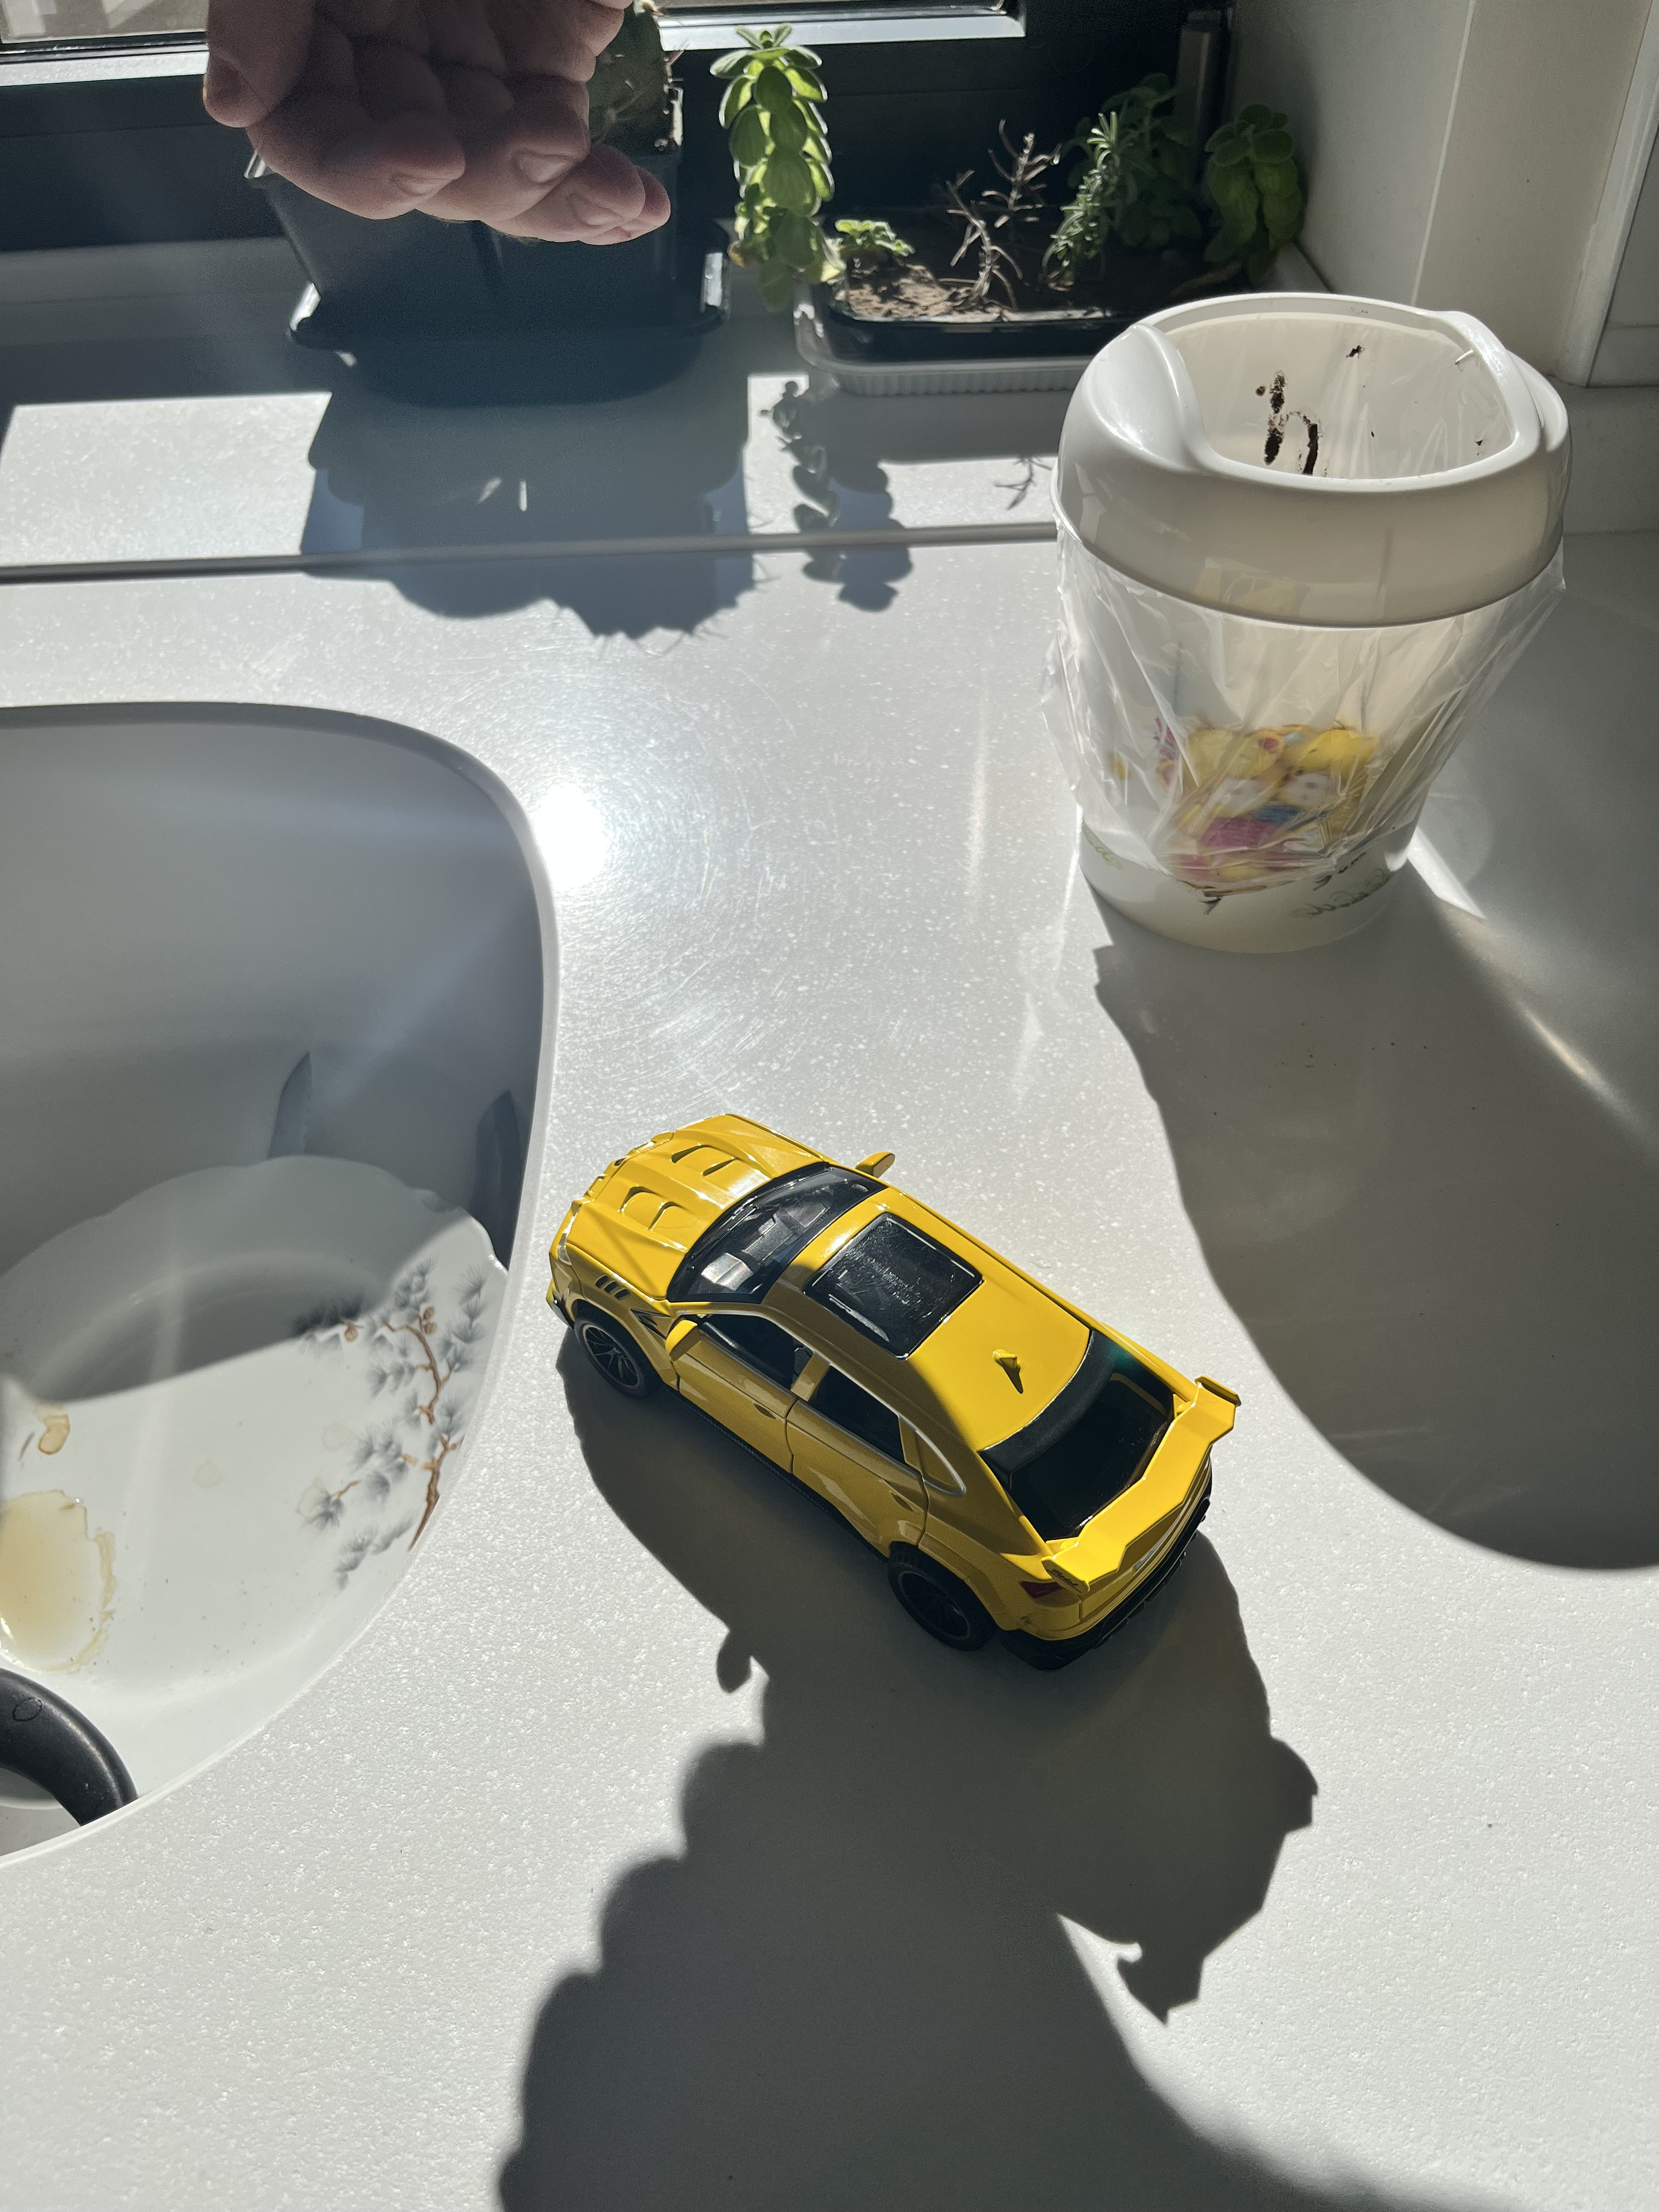lambo: (523, 1103, 1256, 1688)
